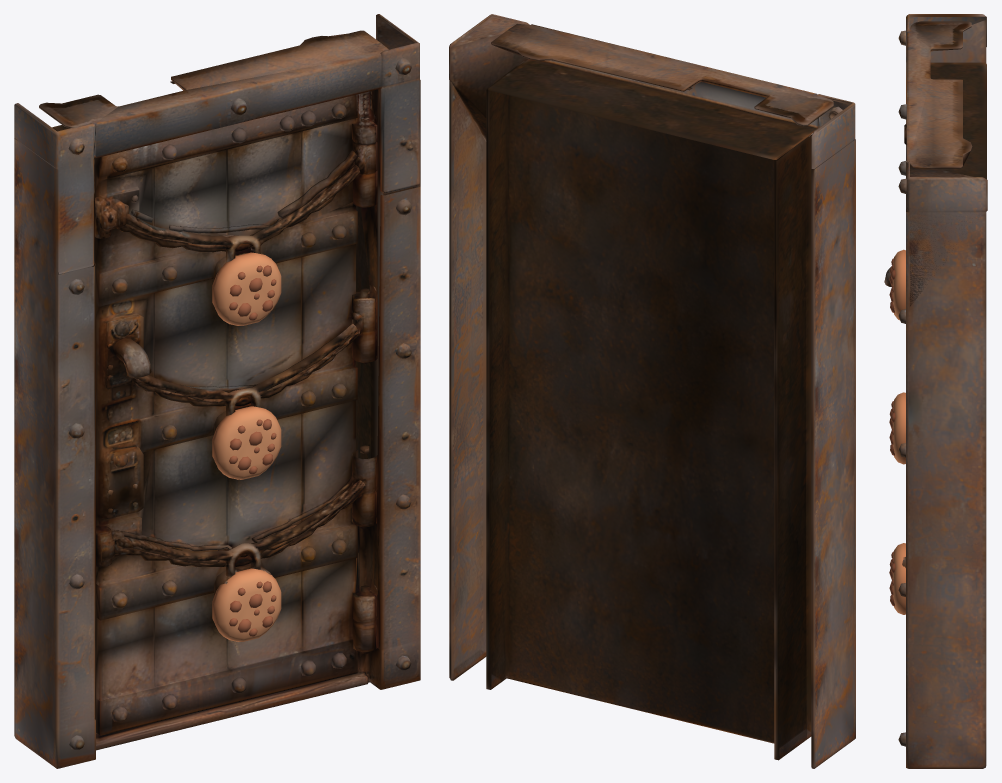
File: door.glb
3 renders of one model, left to right at view 1: azimuth 30°, elevation 25°; view 2: azimuth 150°, elevation 25°; view 3: azimuth 270°, elevation 25°, orthographic. The views are drawn at different scales.
Parts seen in each view (by area): view 1: material; view 2: material; view 3: material.
Boxes of the visible parts, bbox=[...] form: material: bbox=[14, 14, 420, 768]; material: bbox=[449, 14, 855, 768]; material: bbox=[884, 14, 987, 768].
Size of the model in its own units: 1.14 by 1.9 by 0.3007.
2 materials, 2 textured.
